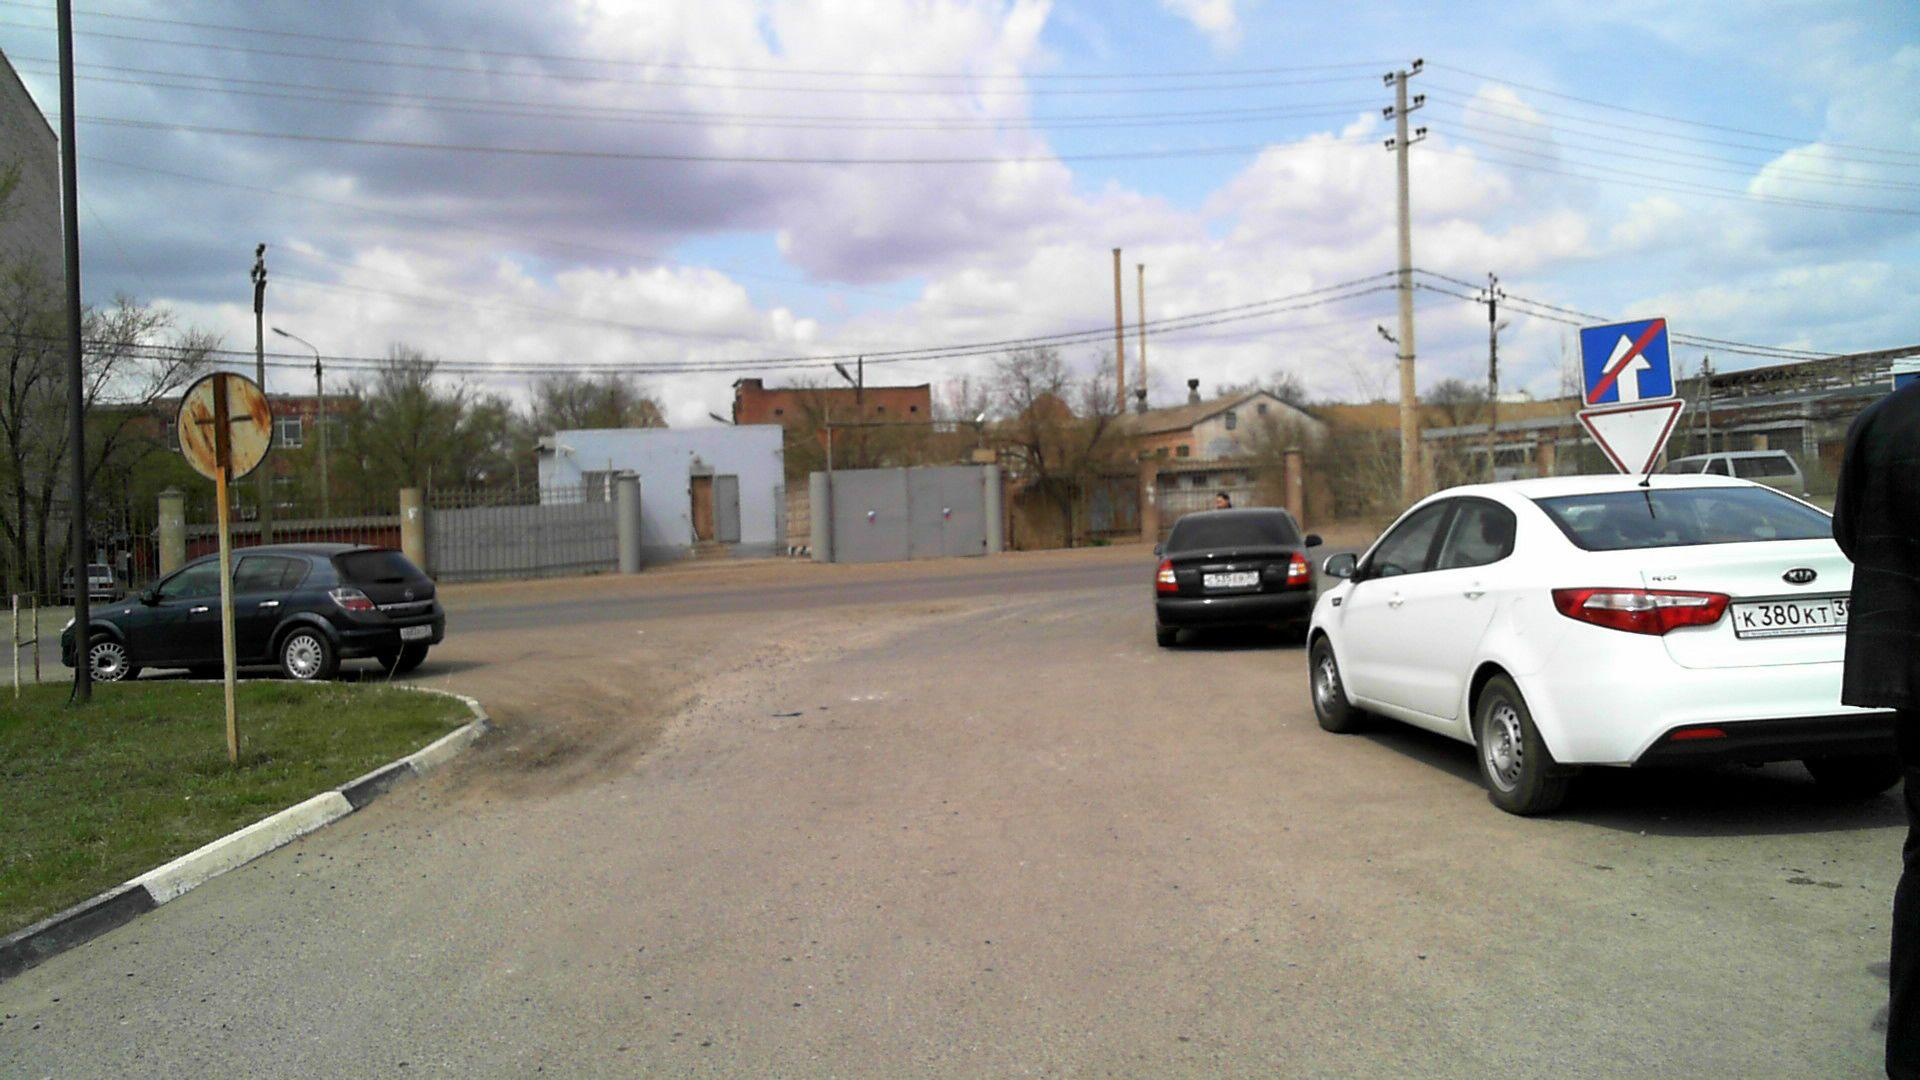2_4: (1573, 401, 1687, 473)
5_6: (1573, 316, 1680, 406)
